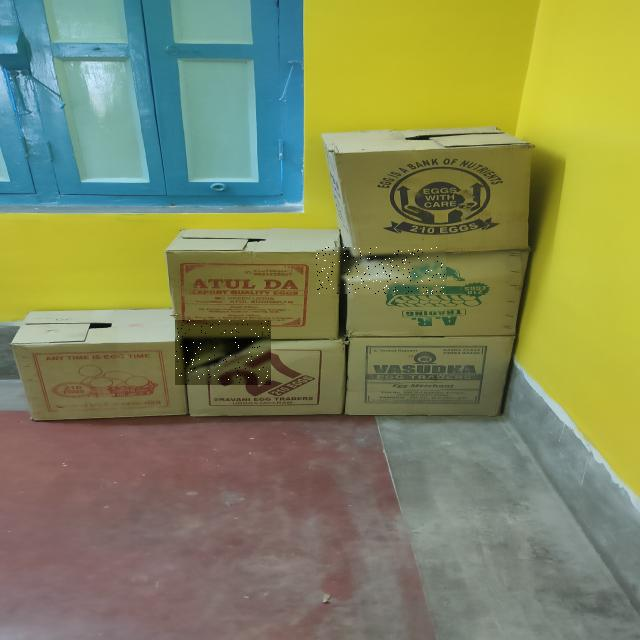squeeze: (175, 320, 271, 383), (316, 248, 445, 294)
